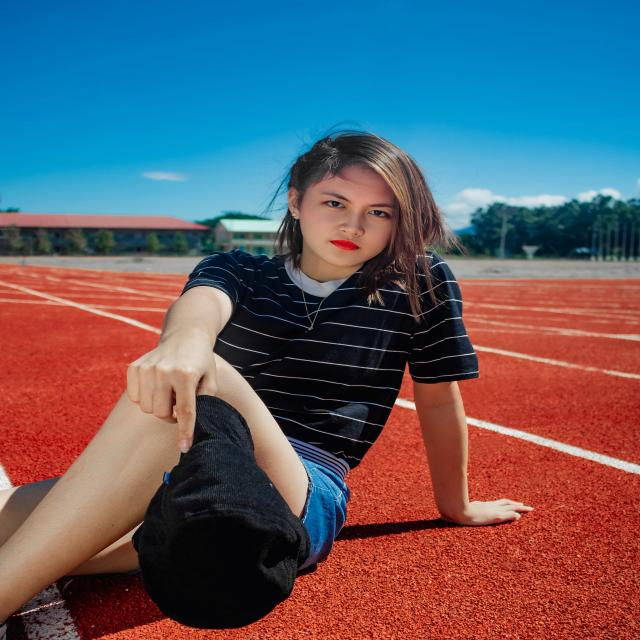child: (1, 124, 531, 640)
